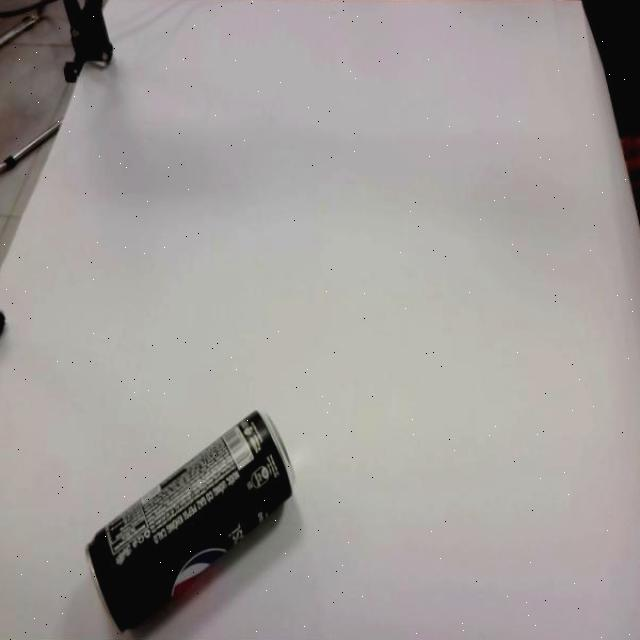debris: (82, 406, 297, 634)
